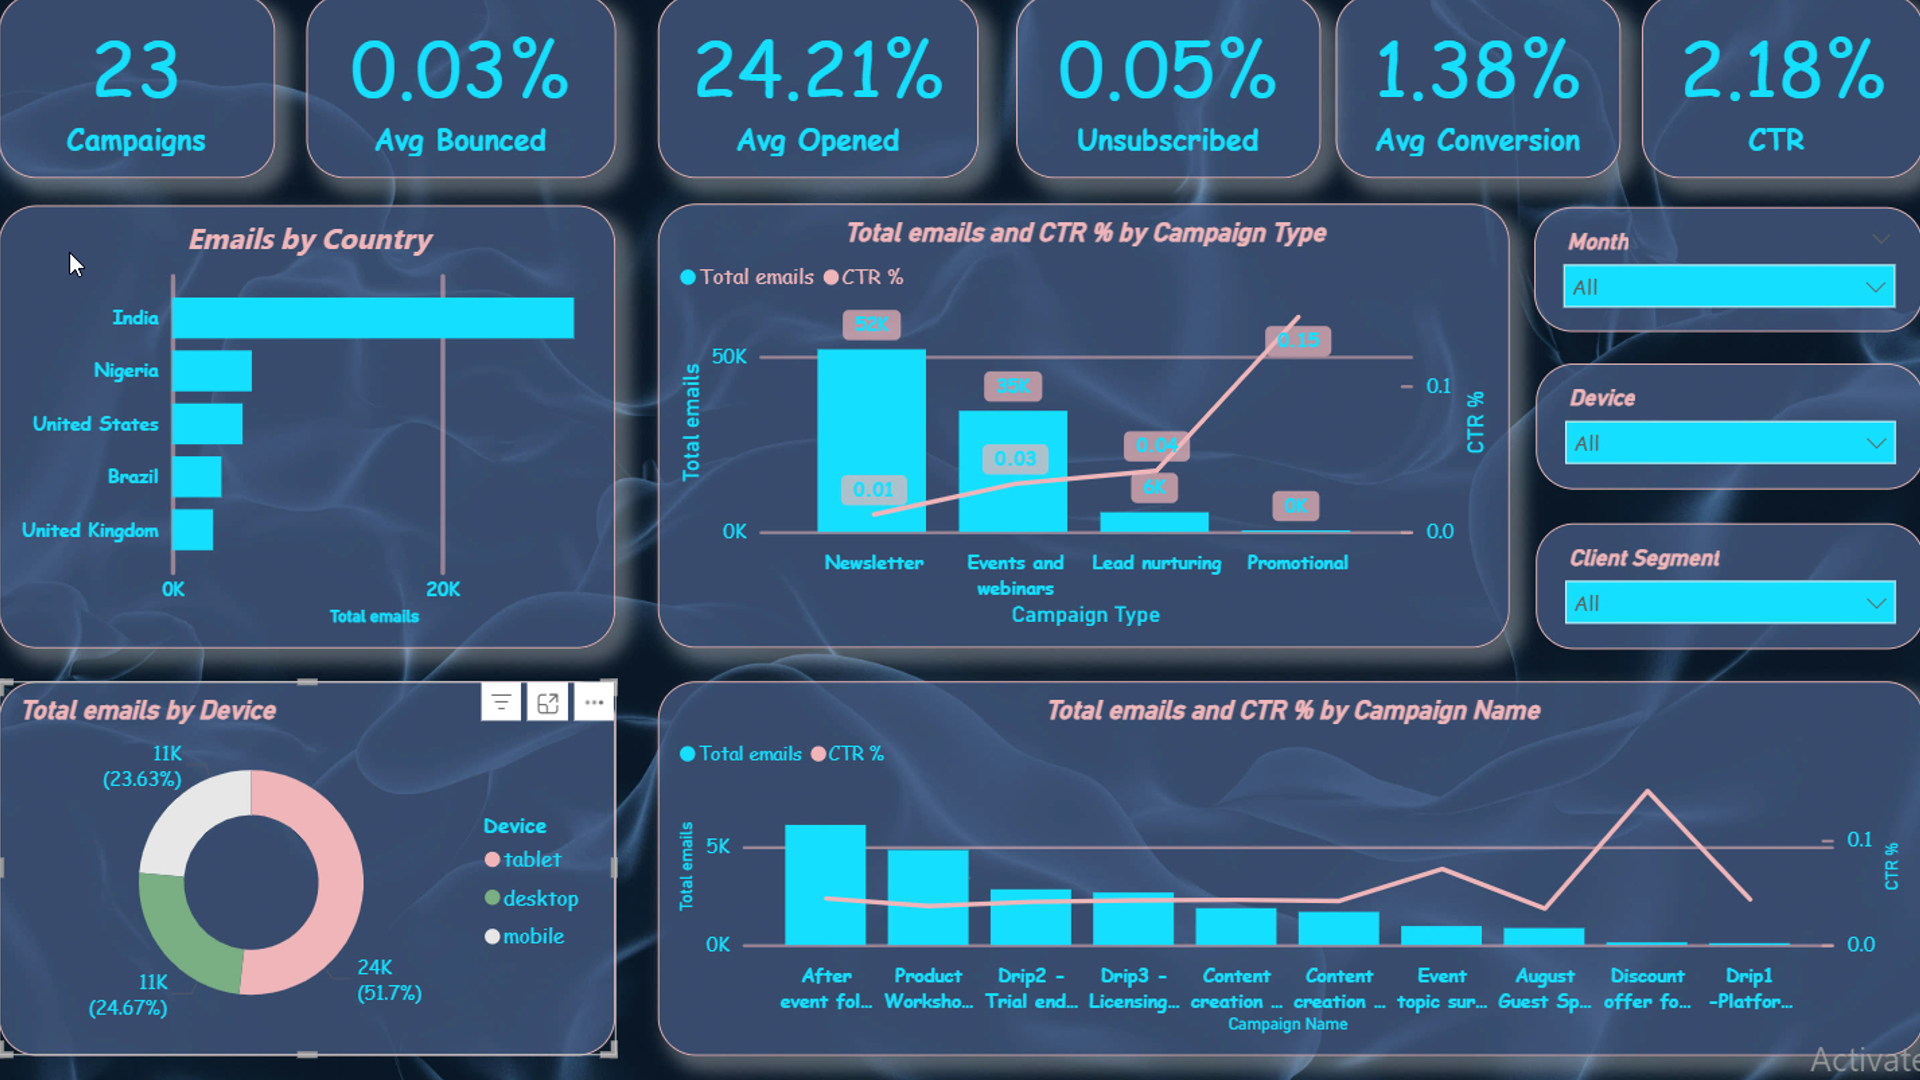

This screenshot's page, from the dashboard's own definition file:
{"tool":"powerbi","page":{"name":"Page 1","canvas":[1280,720],"ordinal":0},"visuals":[{"type":"card","fields":{"Values":["Count(email_data.Campaign Name)"]},"box":[11.8,9.2,181,120.7],"z":0},{"type":"card","fields":{"Values":["Avg(email_data.Bounced)"]},"box":[213.8,9.2,202,120.7],"z":1000},{"type":"card","fields":{"Values":["Avg(email_data.Conversion)"]},"box":[886.7,9.2,186.3,120.7],"z":2000},{"type":"card","fields":{"Values":["Avg(email_data.Unsubscribed)"]},"box":[676.9,9.2,199.4,120.7],"z":3000},{"type":"card","fields":{"Values":["Avg(email_data.Opened)"]},"box":[443.4,9.2,209.9,120.7],"z":4000},{"type":"card","fields":{"Values":["Measures (2).CTR %"]},"box":[1086.1,9.2,185,120.7],"z":5000},{"type":"clusteredBarChart","title":"Emails by Country","fields":{"Category":["email_data.Country"],"Y":["Measures (2).Total emails"]},"box":[12.5,147.5,403.6,289.5],"z":6000},{"type":"lineClusteredColumnComboChart","fields":{"Category":["email_data.Campaign Type"],"Y":["Measures (2).Total emails"],"Y2":["Measures (2).CTR %"]},"box":[443,146.5,556.8,290.5],"z":7000},{"type":"slicer","fields":{"Values":["email_data.Client Segment"]},"box":[1016.8,354.7,254.2,82.3],"z":8000},{"type":"slicer","fields":{"Values":["email_data.Device"]},"box":[1016.8,250.6,254.2,82.3],"z":9000},{"type":"donutChart","fields":{"Category":["email_data.Device"],"Y":["Measures (2).Total emails"]},"box":[12.1,458.8,403.1,244.5],"z":10000},{"type":"lineClusteredColumnComboChart","fields":{"Y2":["Measures (2).CTR %"],"Y":["Measures (2).Total emails"],"Category":["email_data.Campaign Name"]},"box":[443,458.8,828,244.5],"z":11000},{"type":"slicer","fields":{"Values":["email_data.Date Sent.Variation.Date Hierarchy.Month"]},"box":[1015.6,148.2,254.6,82],"z":12000}]}

Visuals, with their boxes in screenshot pixels (x1, y1, x2, y2):
card - Count(email_data.Campaign Name): 0, 0, 271, 169
card - Avg(email_data.Bounced): 303, 0, 613, 169
card - Avg(email_data.Conversion): 1335, 0, 1621, 169
card - Avg(email_data.Unsubscribed): 1013, 0, 1319, 169
card - Avg(email_data.Opened): 655, 0, 977, 169
card - Measures (2).CTR %: 1641, 0, 1919, 169
"Emails by Country" clusteredBarChart: 0, 196, 613, 640
lineClusteredColumnComboChart - email_data.Campaign Type x Measures (2).Total emails: 654, 195, 1508, 640
slicer - email_data.Client Segment: 1534, 514, 1919, 640
slicer - email_data.Device: 1534, 354, 1919, 481
donutChart - email_data.Device x Measures (2).Total emails: 0, 674, 612, 1049
lineClusteredColumnComboChart - Measures (2).CTR % x Measures (2).Total emails: 654, 674, 1919, 1049
slicer - email_data.Date Sent.Variation.Date Hierarchy.Month: 1533, 197, 1919, 323
